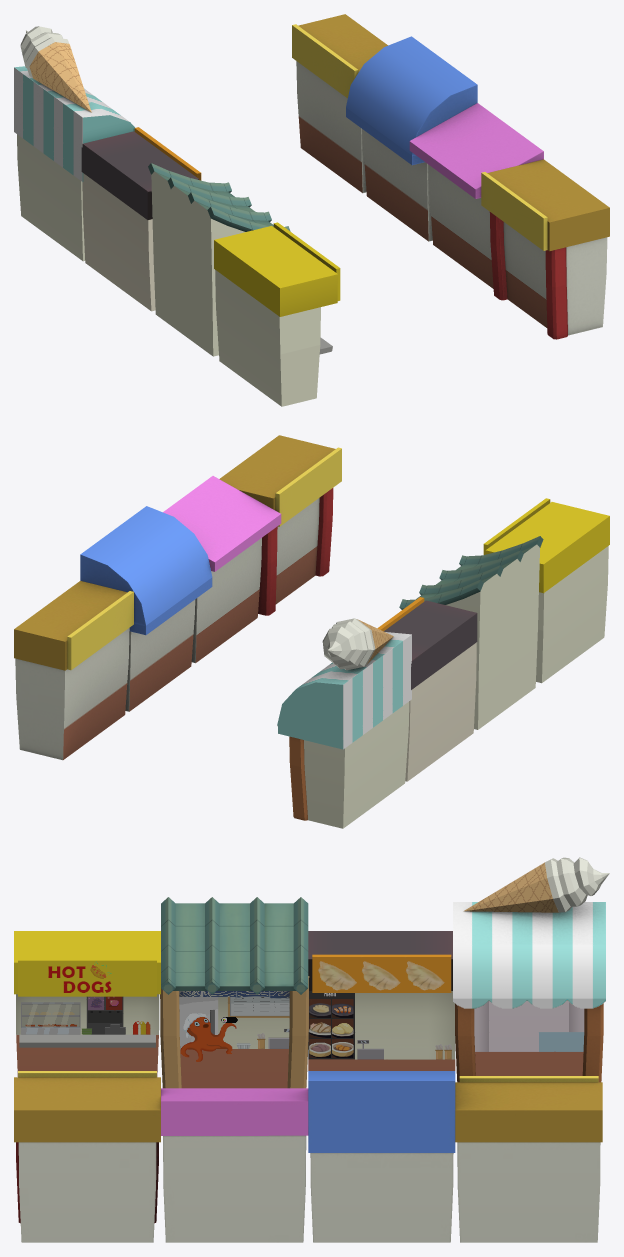
Rendered from foodstreet.fbx.
The picture shows the model from 3 angles, top to bottom: view 1: azimuth 30°, elevation 25°; view 2: azimuth 150°, elevation 25°; view 3: azimuth 270°, elevation 25°; orthographic projection. The views are drawn at different scales.
Visible parts, largest first — view 1: roof7, shop4, shop3, roof4, shop5, roof6, roof1, shop2, roof5, shop8, shop1, roof2 (+15 smaller); view 2: roof7, shop8, shop3, roof1, shop1, shop4, shop2, roof6, roof4, shop6, roof8, shop7 (+14 smaller); view 3: shop6, roof1, shop8, shop5, shop7, roof7, shop2, shop3, roof5, shop4, roof8, roof3 (+16 smaller).
Part boxes in pixels (left/top/right/bottom): roof7: left=346, top=36, right=477, bottom=165; shop4: left=215, top=270, right=320, bottom=406; shop3: left=151, top=171, right=245, bottom=356; roof4: left=214, top=226, right=337, bottom=316; shop5: left=503, top=222, right=607, bottom=335; roof6: left=409, top=103, right=543, bottom=198; roof1: left=14, top=66, right=134, bottom=181; shop2: left=82, top=173, right=155, bottom=311; roof5: left=487, top=159, right=609, bottom=251; shop8: left=296, top=61, right=366, bottom=193; shop1: left=17, top=134, right=85, bottom=261; roof2: left=81, top=131, right=198, bottom=219; roof7: left=80, top=506, right=212, bottom=635; shop8: left=15, top=628, right=129, bottom=760; shop3: left=446, top=544, right=539, bottom=729; roof1: left=277, top=632, right=411, bottom=749; shop1: left=304, top=701, right=409, bottom=828; shop4: left=536, top=546, right=608, bottom=683; shop2: left=405, top=642, right=476, bottom=781; roof6: left=163, top=476, right=281, bottom=571; roof4: left=485, top=502, right=609, bottom=593; shop6: left=191, top=538, right=261, bottom=663; roof8: left=14, top=581, right=127, bottom=670; shop7: left=125, top=599, right=195, bottom=711; shop6: left=163, top=1135, right=306, bottom=1242; roof1: left=453, top=902, right=605, bottom=1008; shop8: left=457, top=1142, right=600, bottom=1242; shop5: left=18, top=1142, right=156, bottom=1242; shop7: left=310, top=1153, right=453, bottom=1242; roof7: left=308, top=1071, right=455, bottom=1152; shop2: left=308, top=991, right=455, bottom=1070; shop3: left=179, top=991, right=289, bottom=1088; roof5: left=14, top=1077, right=160, bottom=1142; shop4: left=16, top=994, right=159, bottom=1076; roof8: left=455, top=1082, right=602, bottom=1142; roof3: left=173, top=903, right=295, bottom=990.
Size of the model in its own units: 370 by 202 by 506.
